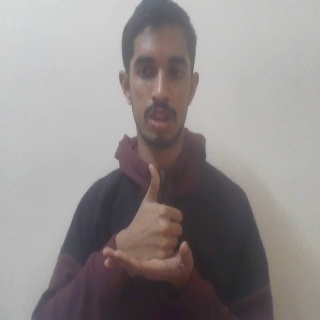Face: (116, 1, 201, 152)
Help: (101, 161, 204, 291)
